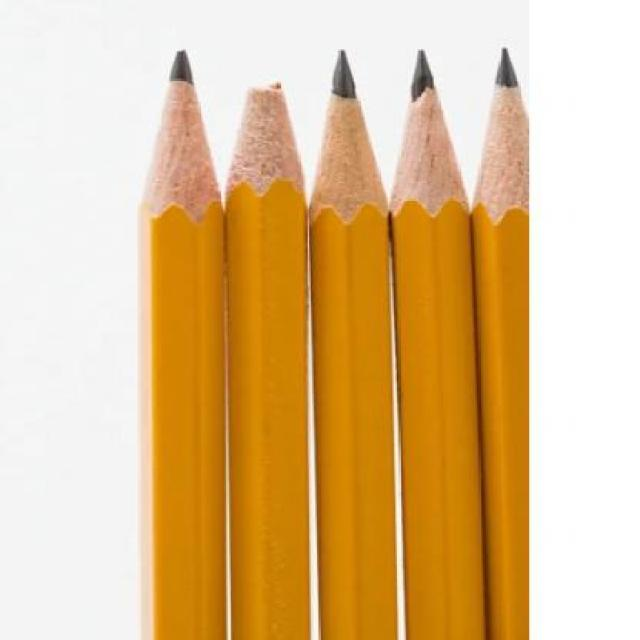pencil: (126, 41, 228, 639), (387, 37, 488, 640), (308, 36, 399, 640), (221, 68, 314, 640), (468, 38, 537, 640)
